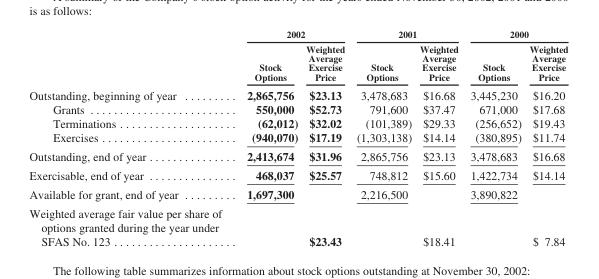table: (28, 28, 567, 248)
table column: (28, 28, 233, 248), (233, 28, 301, 248), (350, 28, 415, 248), (463, 28, 524, 248), (301, 28, 350, 248), (415, 28, 463, 248), (524, 28, 567, 248)
table column header: (28, 28, 567, 84)
table row: (28, 203, 567, 248), (28, 41, 567, 84), (28, 146, 567, 165), (28, 165, 567, 184), (28, 184, 567, 203), (28, 84, 567, 101), (28, 130, 567, 146), (28, 115, 567, 130), (28, 101, 567, 115), (28, 28, 567, 41)
table spanning cell: (233, 28, 350, 41), (350, 28, 463, 41), (463, 28, 567, 41)
